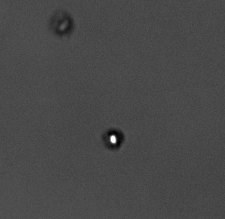Dead Cell: (52, 12, 73, 35)
Living Cell: (104, 129, 124, 149)
